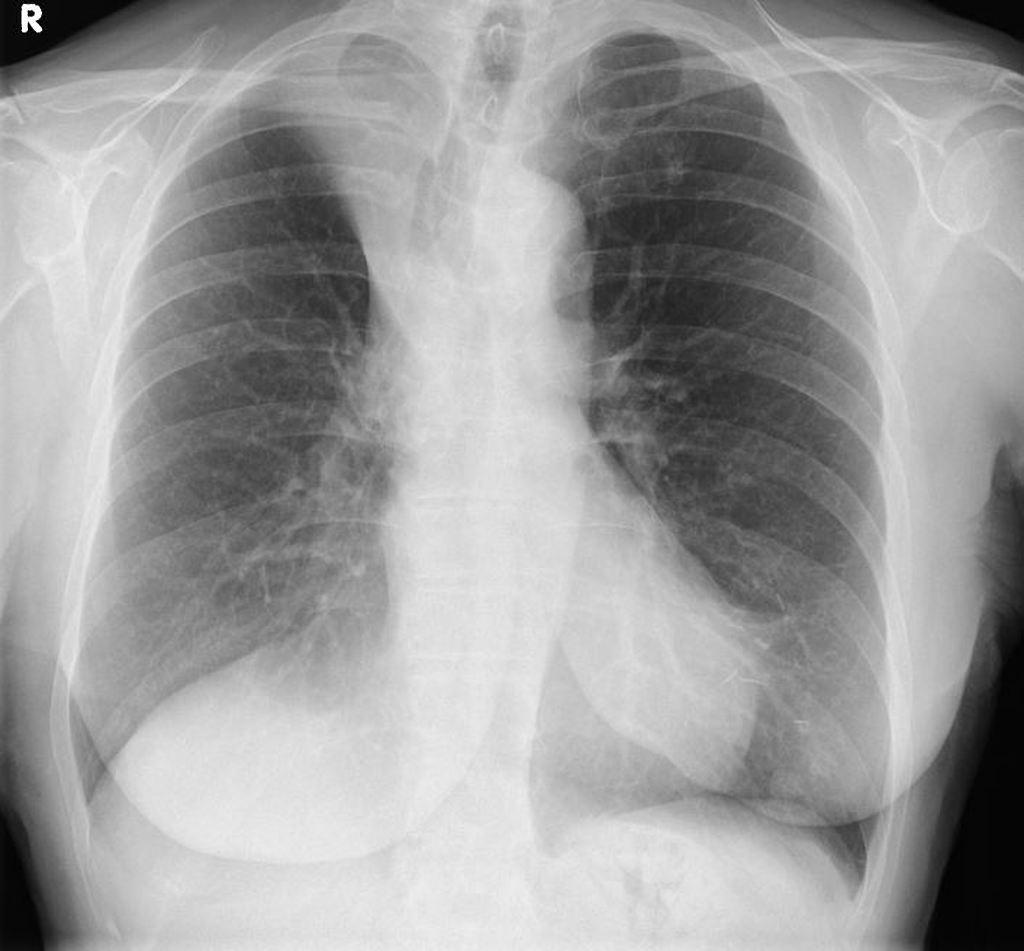cancer: (595, 225, 931, 801)
